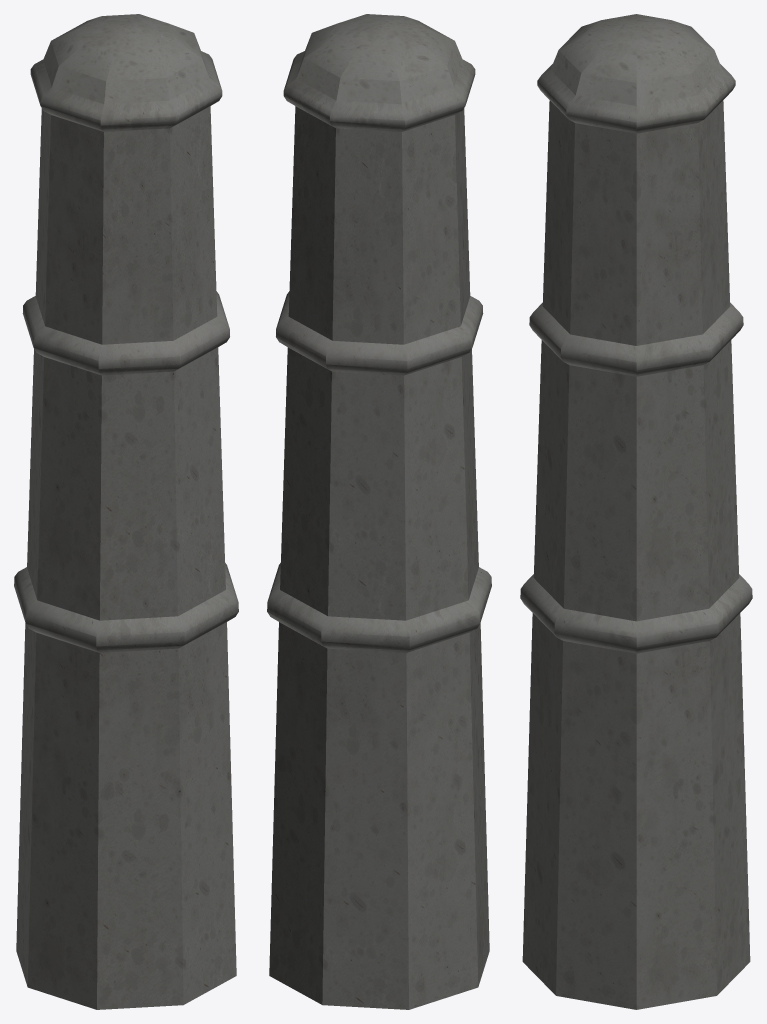
The model's file is pillar.fbx.
3 views of the same model, side by side, from view 1: azimuth 30°, elevation 25°; view 2: azimuth 150°, elevation 25°; view 3: azimuth 270°, elevation 25° (orthographic).
Parts seen in each view (by area): view 1: Mesh; view 2: Mesh; view 3: Mesh.
Part boxes in pixels (box(x1,y1,x2,y2)): Mesh: box(14, 14, 238, 1009); Mesh: box(267, 14, 491, 1009); Mesh: box(520, 14, 752, 1009).
Bounding box in the file's own units: 34.68 × 154 × 34.68.
